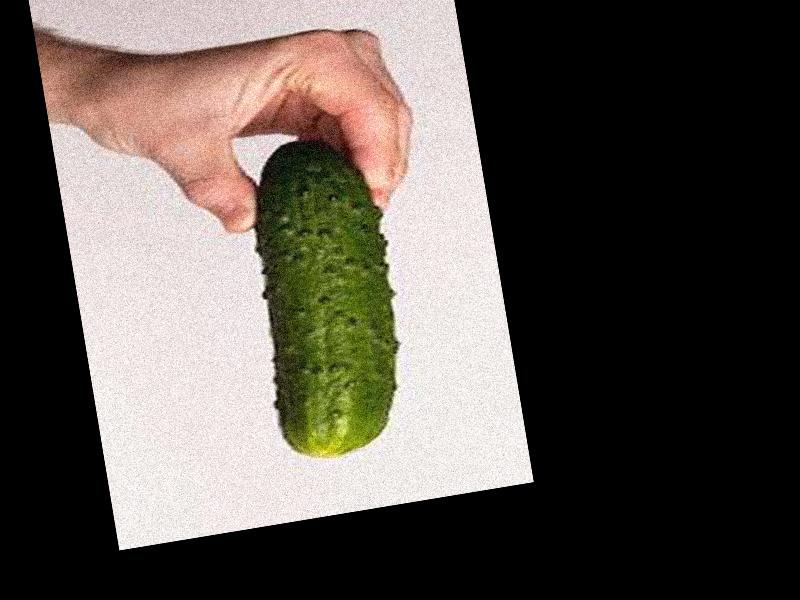Cucumber: (244, 129, 417, 461)
